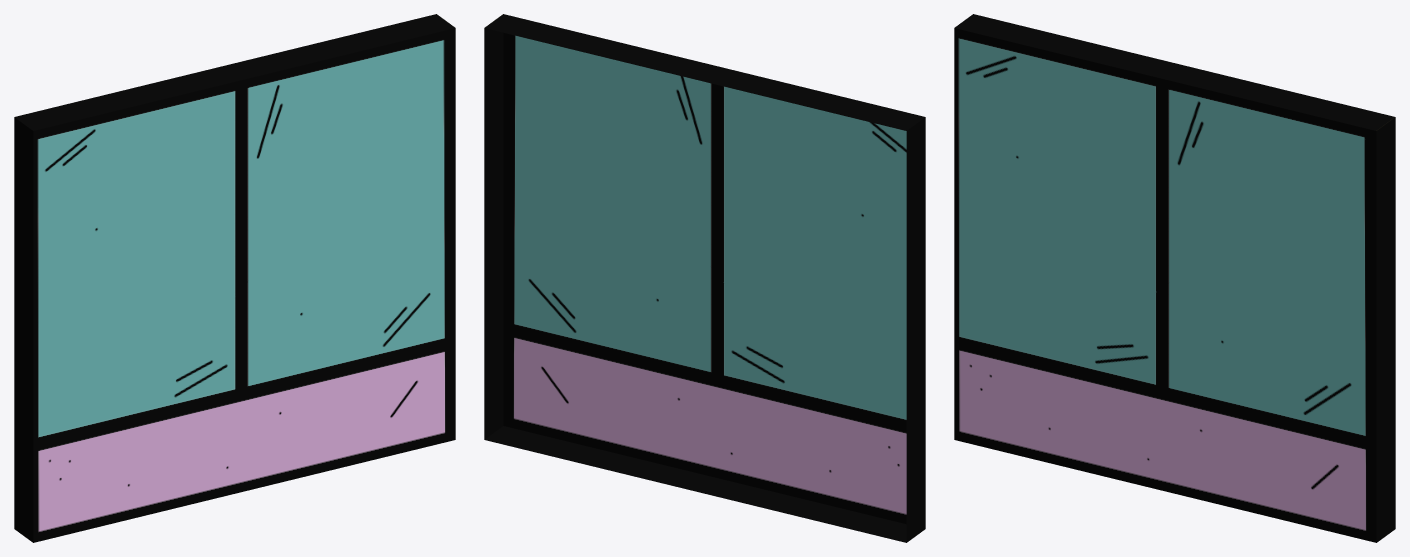
Rendered from Top_Left_Shopfront.fbx.
3 views of the same model, side by side, from view 1: azimuth 30°, elevation 25°; view 2: azimuth 150°, elevation 25°; view 3: azimuth 330°, elevation 25° (orthographic).
Visible parts, largest first — view 1: Box169; view 2: Box169; view 3: Box169.
Boxes of the visible parts, x1,y1,x2,y2 form: Box169: [14, 14, 455, 542]; Box169: [484, 14, 925, 542]; Box169: [954, 14, 1395, 542].
Bounding box in the file's own units: 2.24 × 2.08 × 0.1757.
